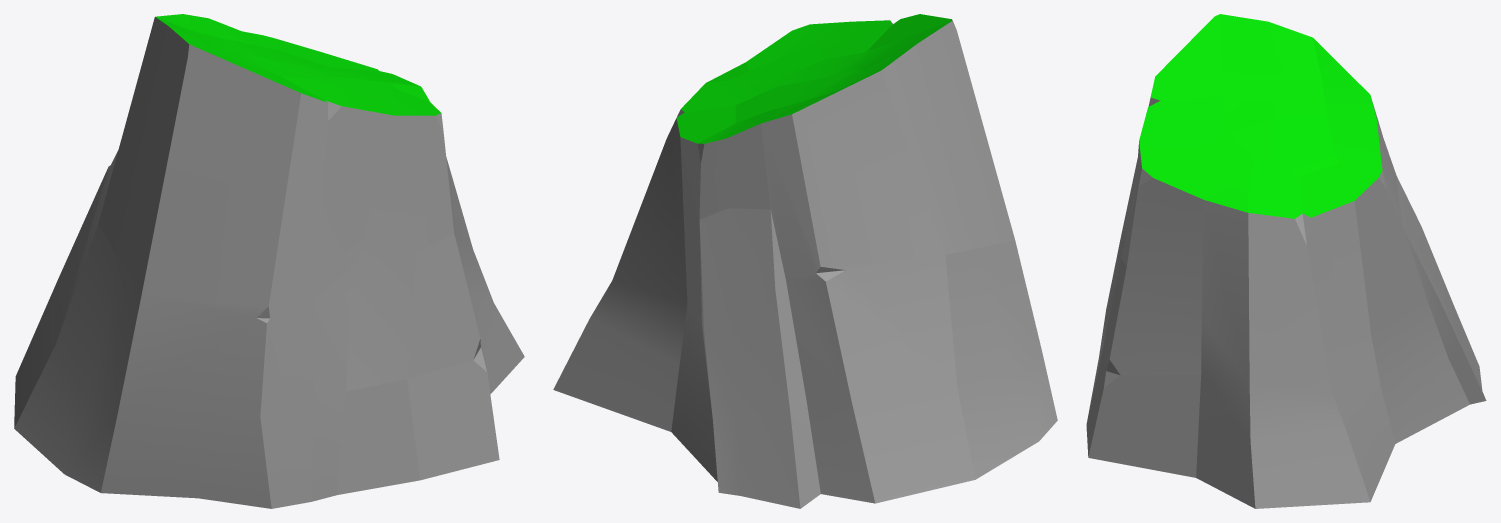
File: rock_jungle_medium_J.fbx
3 renders of one model, left to right at view 1: azimuth 30°, elevation 25°; view 2: azimuth 150°, elevation 25°; view 3: azimuth 270°, elevation 25°, orthographic. The views are drawn at different scales.
Parts seen in each view (by area): view 1: rock_jungle_medium_J; view 2: rock_jungle_medium_J; view 3: rock_jungle_medium_J.
Part boxes in pixels (box(x1,y1,x2,y2)): rock_jungle_medium_J: box(14, 14, 524, 508); rock_jungle_medium_J: box(553, 14, 1057, 508); rock_jungle_medium_J: box(1086, 14, 1486, 508).
Bounding box in the file's own units: 55.72 × 47.42 × 49.3.
